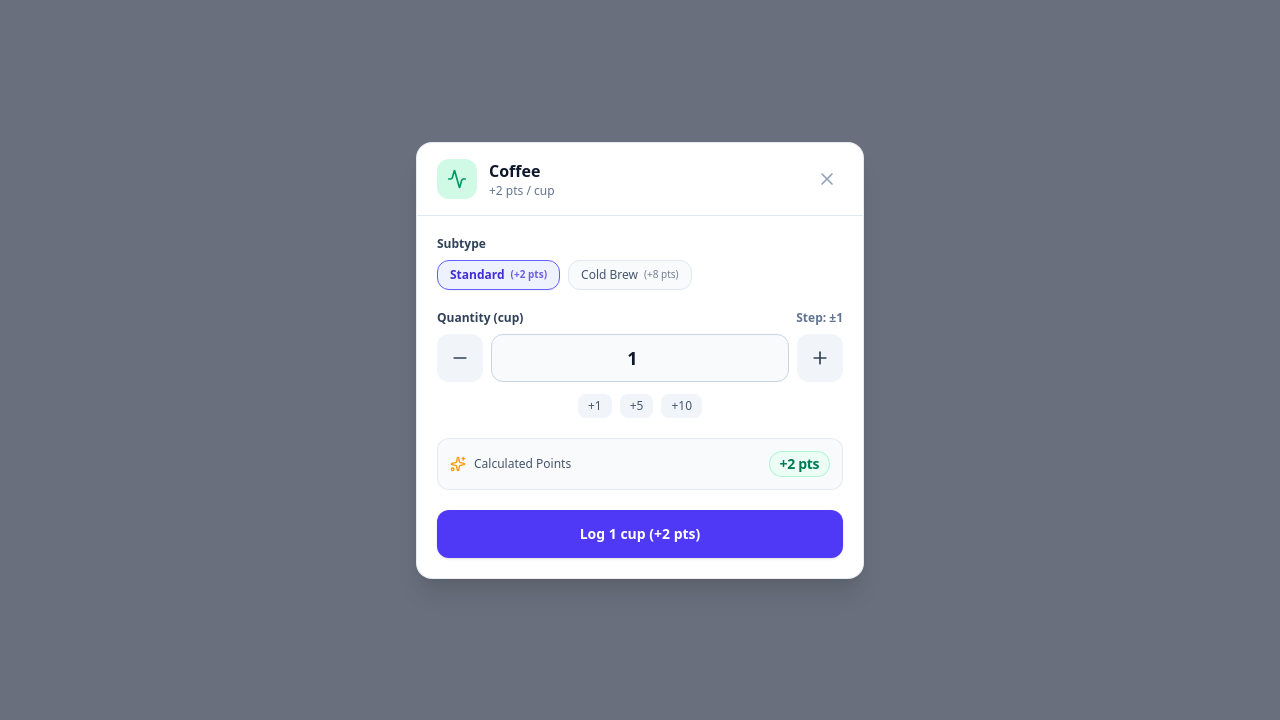
it: QuantityStepperModal › updates quantity when a Subtype with quantityOverride is selected
expect the number field with test id "quantity-input" holds "1": met, box [491,334,789,382]
Note: Click Cold Brew subtype (quantityOverride: 2, pointOverride: 8)
Step 1. Click the button with test id "subtype-option-sub-coldbrew" → {"x": 630, "y": 274}, box [568,260,692,290]
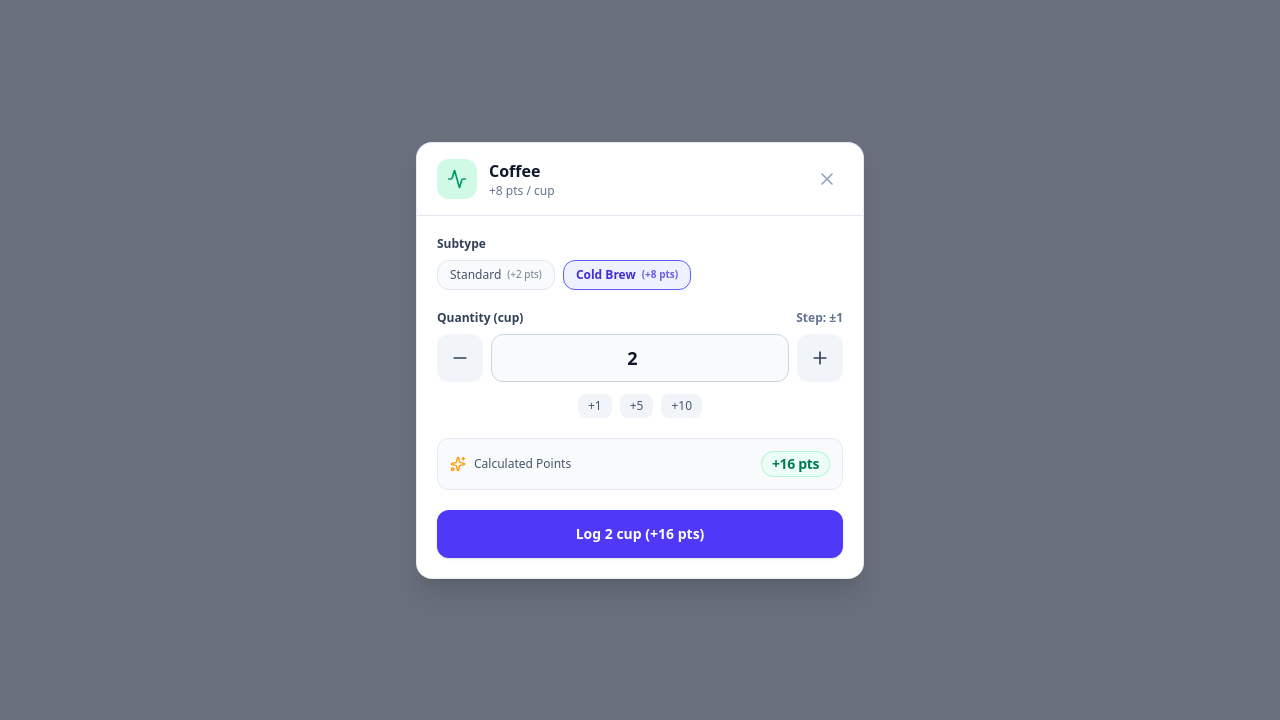
expect the number field with test id "quantity-input" holds "2": met, box [491,334,789,382]
expect the button with test id "quantity-submit-button" reads "Log 2 cup (+16 pts)": met, box [437,510,843,558]
